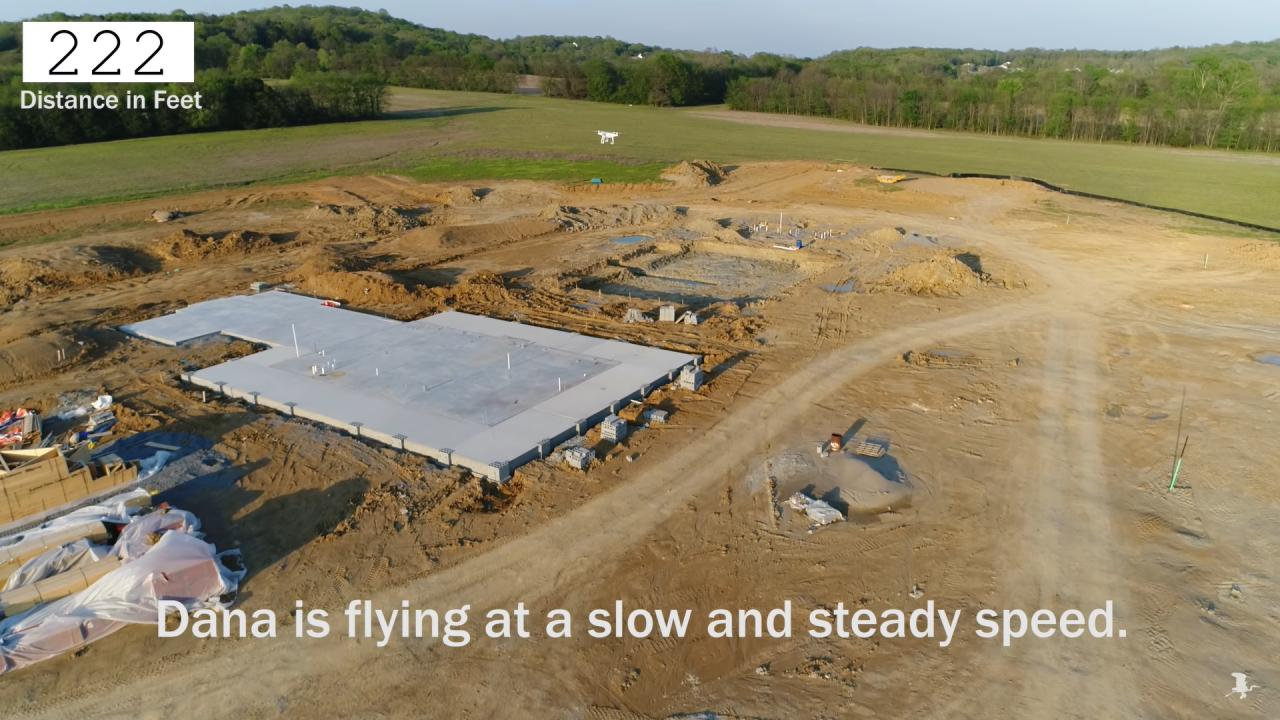Drone: (589, 123, 626, 153)
